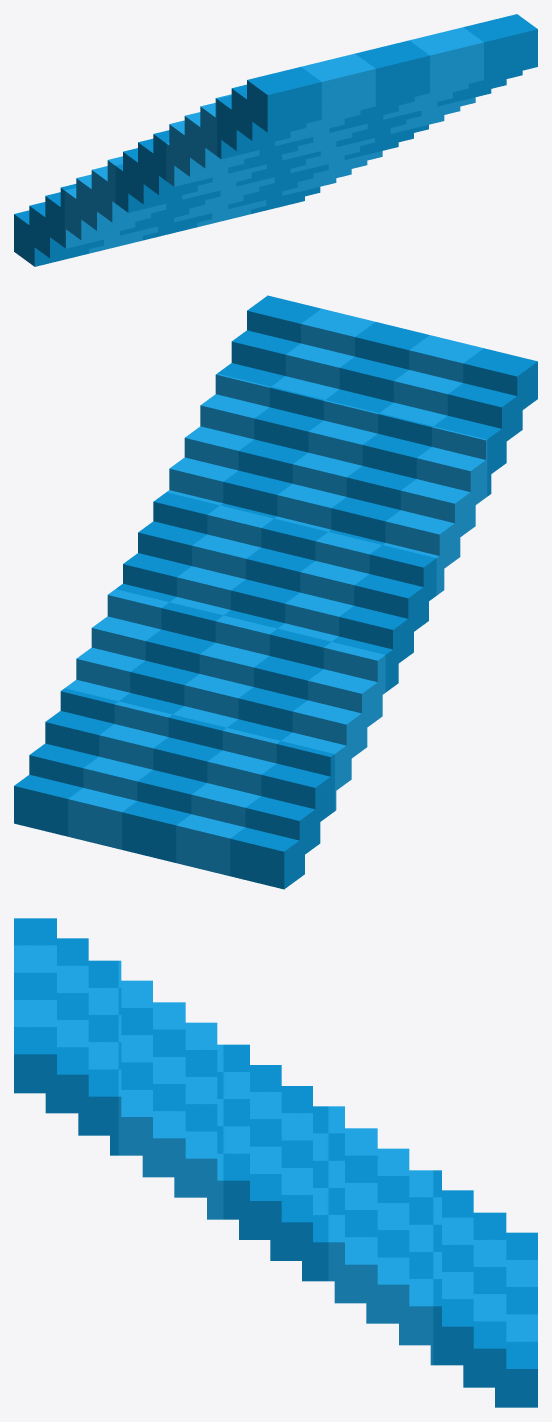
The model's file is stairs1216.FBX.
3 views of the same model, one above another, from view 1: azimuth 30°, elevation 25°; view 2: azimuth 150°, elevation 25°; view 3: azimuth 270°, elevation 25° (orthographic). The views are drawn at different scales.
Visible parts, largest first — view 1: Box01; view 2: Box01; view 3: Box01.
Part boxes in pixels (x1=…): Box01: x1=14, y1=14, x2=537, y2=266; Box01: x1=14, y1=295, x2=537, y2=889; Box01: x1=14, y1=918, x2=537, y2=1407.
Bounding box in the file's own units: 150 × 244 × 182.
